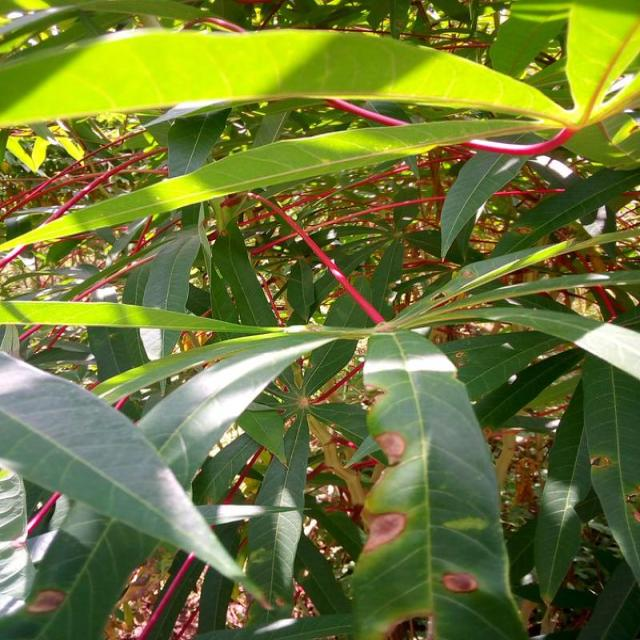cassava leaf: (0, 3, 638, 637), (1, 22, 636, 132), (350, 326, 528, 638)
